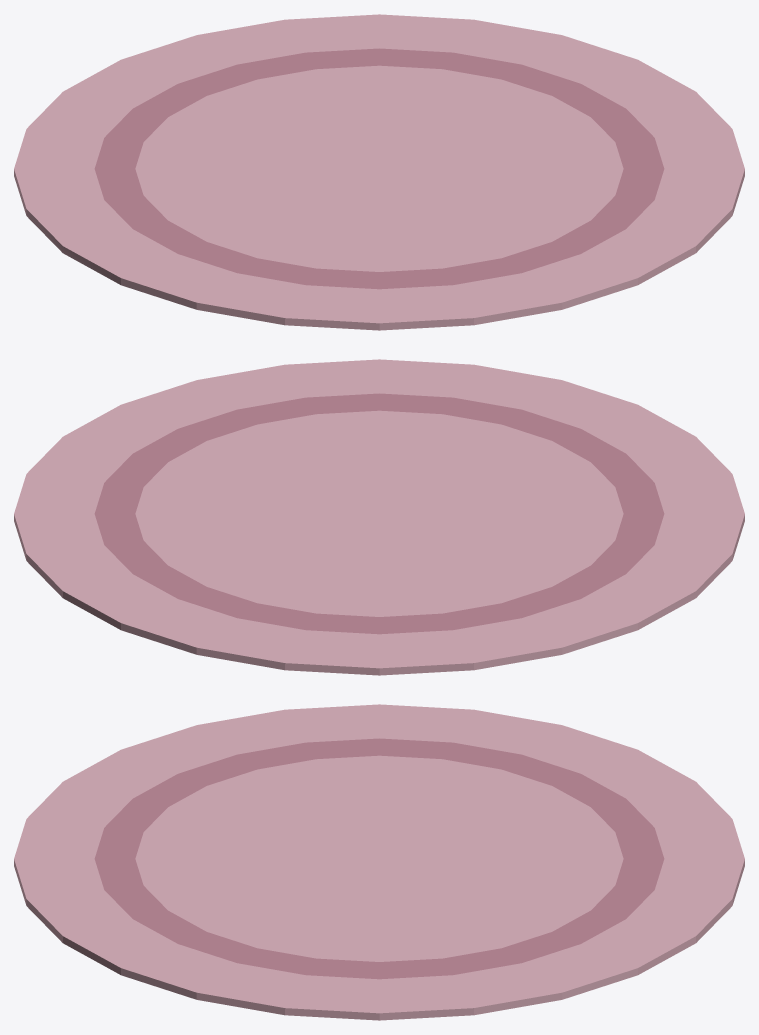
Rendered from rugRound.glb.
The picture shows the model from 3 angles, top to bottom: view 1: azimuth 30°, elevation 25°; view 2: azimuth 150°, elevation 25°; view 3: azimuth 270°, elevation 25°; orthographic projection.
Parts seen in each view (by area): view 1: rugRound(Clone); view 2: rugRound(Clone); view 3: rugRound(Clone).
Part boxes in pixels (x1=…): rugRound(Clone): x1=14, y1=14, x2=744, y2=330; rugRound(Clone): x1=14, y1=359, x2=744, y2=675; rugRound(Clone): x1=14, y1=704, x2=744, y2=1020.
Size of the model in its own units: 0.92 by 0.01 by 0.92.
